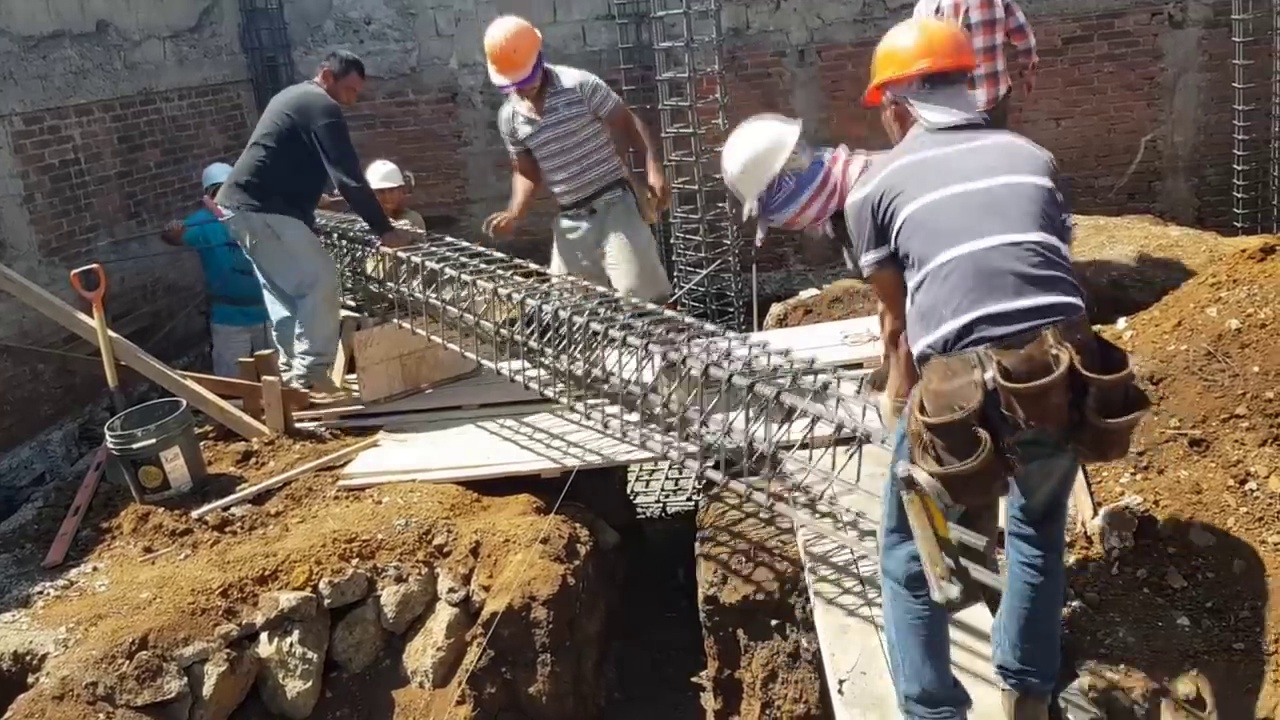helmet: (859, 4, 992, 109), (722, 112, 810, 213), (480, 15, 535, 84), (363, 158, 405, 190), (198, 163, 231, 190)
helmet-off: (308, 49, 364, 107)
helmet-on: (859, 5, 994, 151), (717, 113, 857, 231), (479, 15, 547, 101), (361, 156, 413, 217), (198, 164, 234, 220)
person: (811, 3, 1140, 720), (470, 12, 689, 314), (219, 42, 391, 388), (159, 157, 280, 373), (911, 0, 1038, 140), (347, 155, 428, 250)
